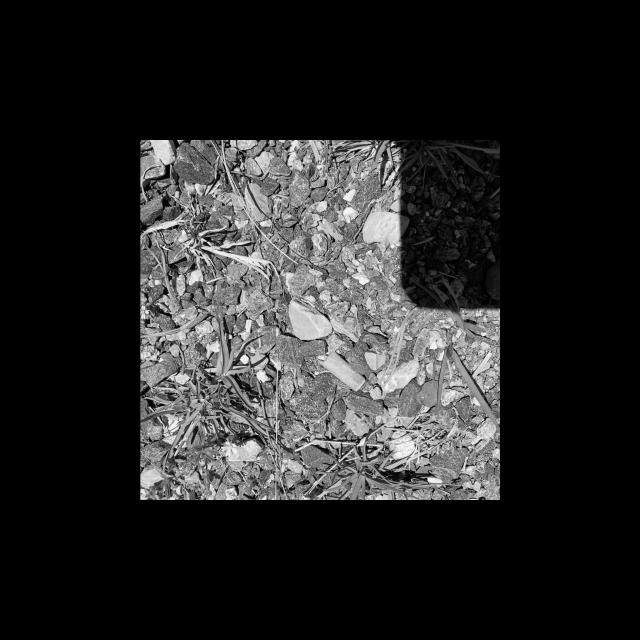cigarette: (315, 346, 365, 392)
